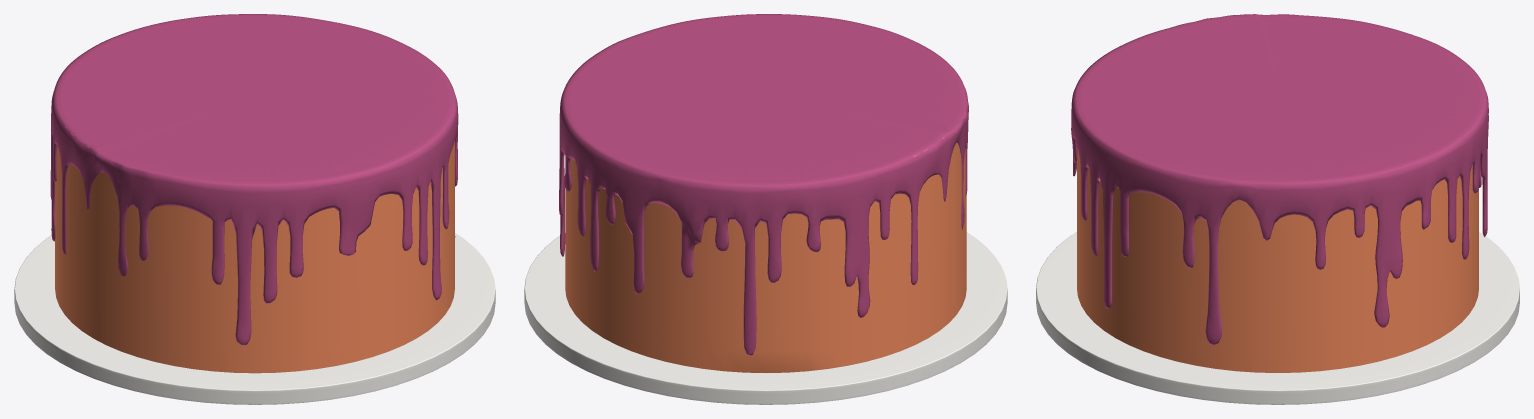
File: 1773123238_cus.glb
3 views of the same model, side by side, from view 1: azimuth 30°, elevation 25°; view 2: azimuth 150°, elevation 25°; view 3: azimuth 270°, elevation 25° (orthographic).
Parts seen in each view (by area): view 1: pCylinder3, pCylinder5, pCylinder29_1004_0; view 2: pCylinder3, pCylinder5, pCylinder29_1004_0; view 3: pCylinder3, pCylinder5, pCylinder29_1004_0.
Part boxes in pixels (x1,y1,x2,y2): pCylinder3: (50,14,458,345); pCylinder5: (55,126,454,373); pCylinder29_1004_0: (14,233,495,404); pCylinder3: (559,14,968,356); pCylinder5: (565,137,966,372); pCylinder29_1004_0: (524,232,1007,404); pCylinder3: (1071,14,1488,345); pCylinder5: (1077,15,1478,372); pCylinder29_1004_0: (1036,232,1519,404).
Size of the model in its own units: 0.024 by 0.0112 by 0.024.
4 materials, 2 textured.
